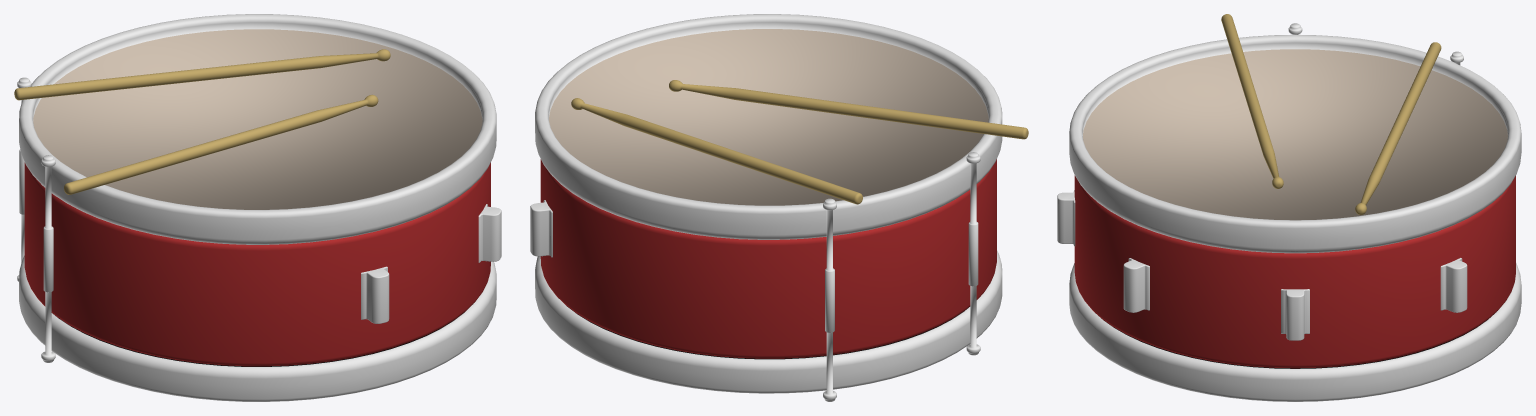
File: drum.glb
The picture shows the model from 3 angles, left to right: view 1: azimuth 30°, elevation 25°; view 2: azimuth 150°, elevation 25°; view 3: azimuth 270°, elevation 25°; orthographic projection. The views are drawn at different scales.
Visible parts, largest first — view 1: Cylinder, Cylinder.004, Cylinder.003, Cylinder.002, Cube, Cube.002, Cylinder.001; view 2: Cylinder, Cylinder.003, Cylinder.004, Cylinder.002, Cylinder.001, Cube.003; view 3: Cylinder, Cylinder.004, Cylinder.003, Cube.001, Cube.003, Cube.002, Cube.
Boxes of the visible parts, <box> form: Cylinder: <box>19,14,496,401</box>; Cylinder.004: <box>14,49,390,100</box>; Cylinder.003: <box>64,94,378,194</box>; Cylinder.002: <box>41,155,55,362</box>; Cube: <box>361,266,389,323</box>; Cube.002: <box>478,204,501,262</box>; Cylinder.001: <box>17,77,31,281</box>; Cylinder: <box>535,14,1002,393</box>; Cylinder.003: <box>669,80,1028,139</box>; Cylinder.004: <box>571,98,862,204</box>; Cylinder.002: <box>966,152,980,355</box>; Cylinder.001: <box>823,198,836,401</box>; Cube.003: <box>530,200,552,257</box>; Cylinder: <box>1069,34,1521,401</box>; Cylinder.004: <box>1355,42,1441,214</box>; Cylinder.003: <box>1221,14,1283,188</box>; Cube.001: <box>1281,289,1309,340</box>; Cube.003: <box>1440,258,1467,312</box>; Cube.002: <box>1123,258,1149,312</box>; Cube: <box>1057,190,1075,246</box>.
Size of the model in its own units: 2.16 by 0.9591 by 2.05.
